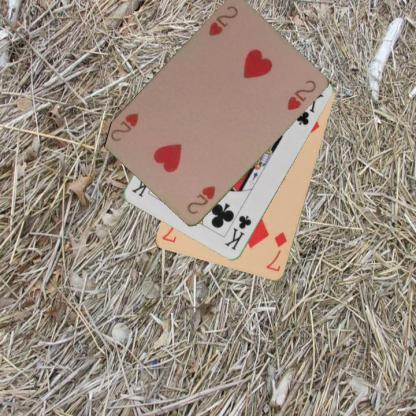2h: (205, 2, 240, 40), (184, 183, 217, 216)
7d: (263, 230, 289, 274)
Kc: (222, 213, 253, 252)
